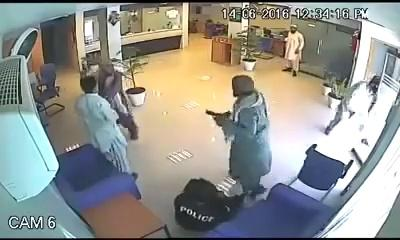weapon: (204, 106, 222, 125)
